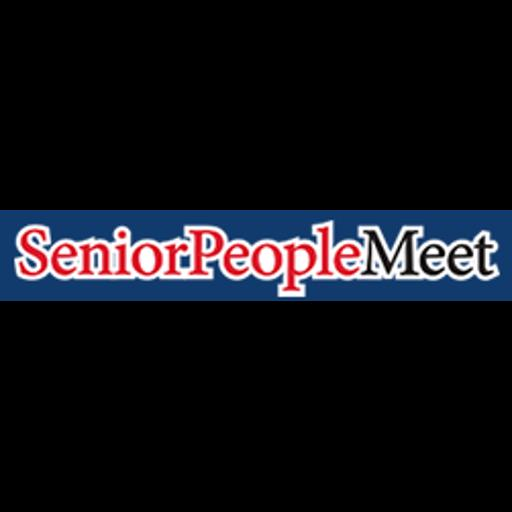Senior People Meet: (0, 210, 512, 301)
